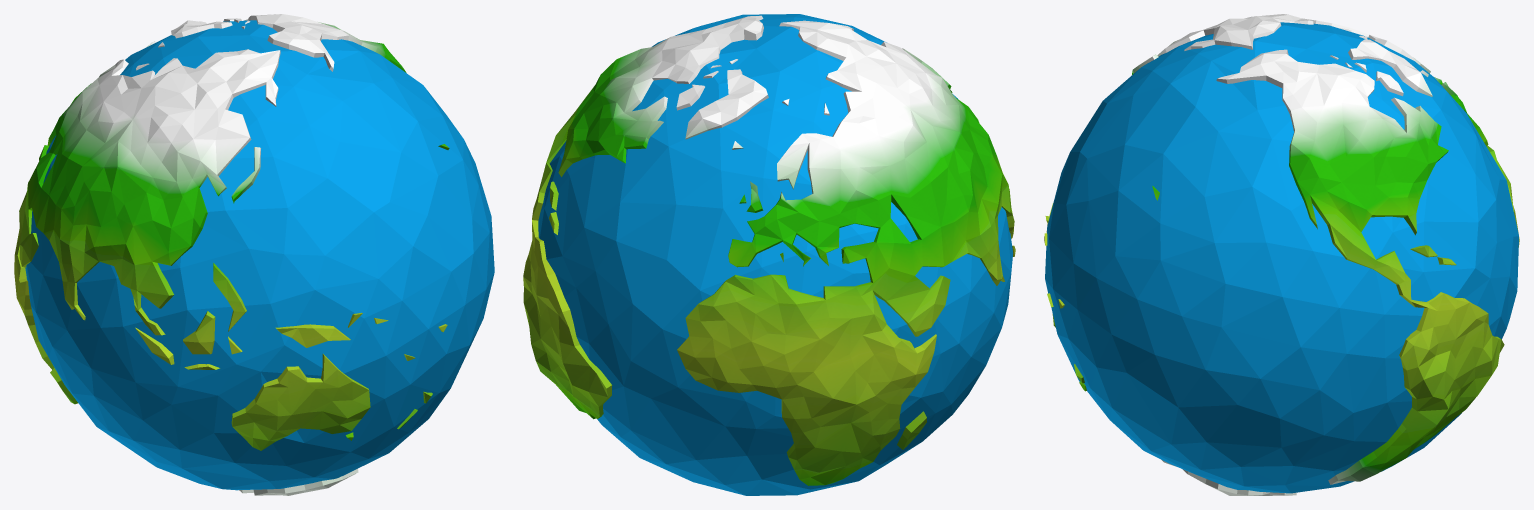
Rendered from EarthLowPoly.glb.
The picture shows the model from 3 angles, left to right: view 1: azimuth 30°, elevation 25°; view 2: azimuth 150°, elevation 25°; view 3: azimuth 270°, elevation 25°; orthographic projection. The views are drawn at different scales.
Parts seen in each view (by area): view 1: Earth_Water, Earth_Ground; view 2: Earth_Ground, Earth_Water; view 3: Earth_Water, Earth_Ground.
Boxes of the visible parts, x1=… form: Earth_Water: x1=25, y1=20, x2=494, y2=490; Earth_Ground: x1=14, y1=14, x2=449, y2=495; Earth_Ground: x1=523, y1=15, x2=1015, y2=485; Earth_Water: x1=538, y1=14, x2=1013, y2=495; Earth_Water: x1=1045, y1=22, x2=1518, y2=493; Earth_Ground: x1=1044, y1=14, x2=1519, y2=495.
Bounding box in the file's own units: 73.56 × 74.59 × 73.56.
Materials: 2 (1 with a texture image).
